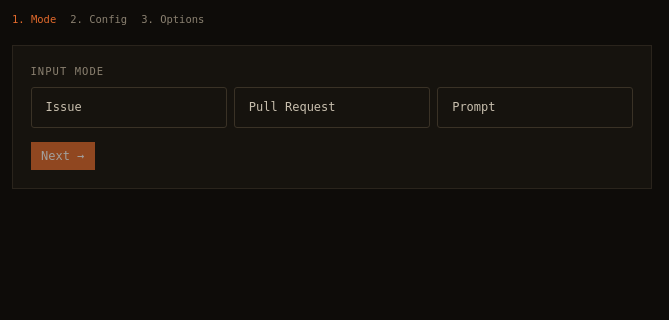
Test: <Submit> › selecting issue shows only the issue field; selecting pr shows only the pr field
What coordinates should you click on to do the following:
click the button "Issue"
I would click on:
 (129, 107)
Its box is [30,86,227,128].
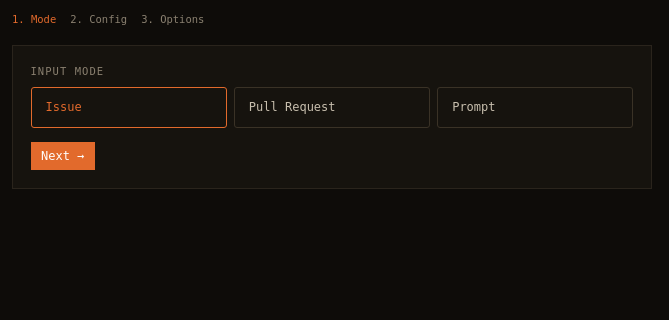
What coordinates should you click on to do the following:
click the button "Next →"
I would click on:
 (63, 156)
Its box is [30,142,95,170].
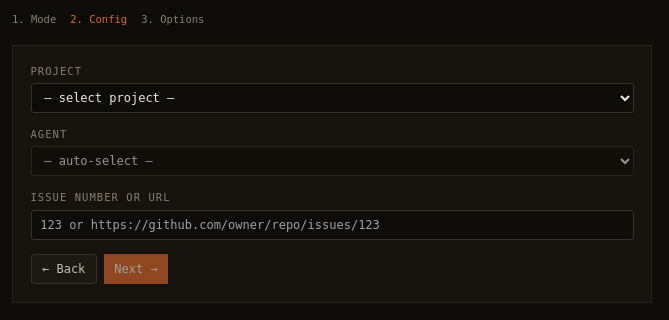
Expected: the field with placeholder "456 or" is not shown
Now the field with placeholder "123 or https://github.com/owner/repo/issues/123" is shown, box [30,210,634,240]
Now the button "Prompt" is gone
What coordinates should you click on to do the following:
click the button "← Back"
I would click on:
 (64, 269)
Its box is [30,254,97,284].
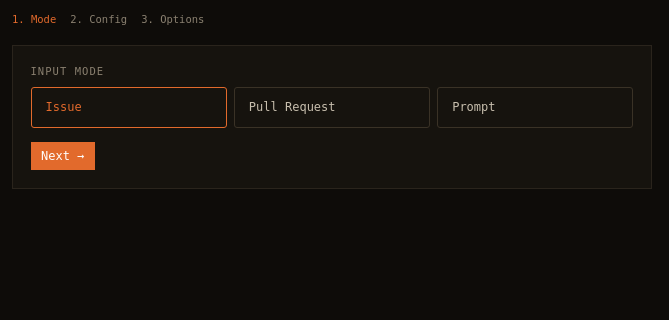
What coordinates should you click on to do the following:
click the button "Pull Request"
I would click on:
 (332, 107)
Its box is [234,86,430,128].
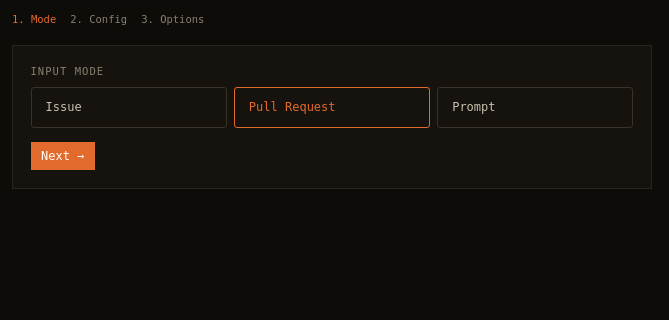
What coordinates should you click on to do the following:
click the button "Next →"
I would click on:
 (63, 156)
Its box is [30,142,95,170].
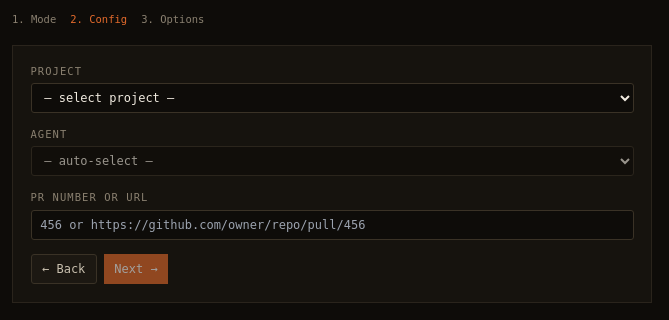
Expected: the field with placeholder "123 or" is not shown
Now the field with placeholder "456 or https://github.com/owner/repo/pull/456" is shown, box [30,210,634,240]
